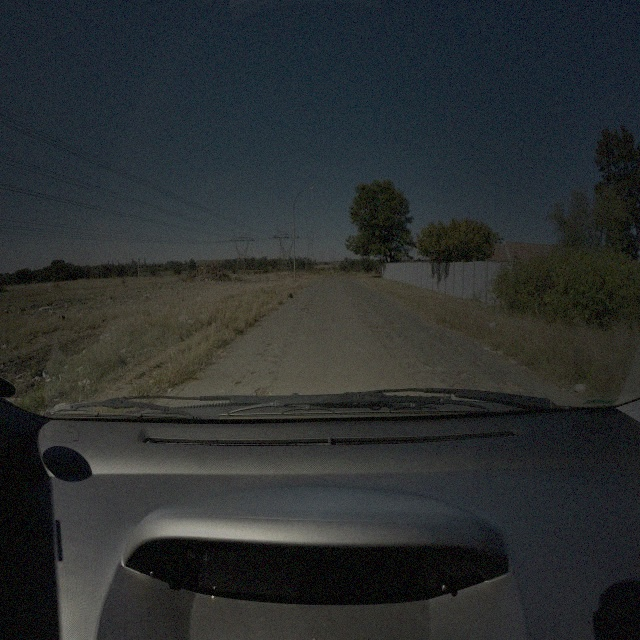pothole: (501, 378, 522, 396), (257, 385, 271, 396), (304, 301, 316, 313), (451, 381, 464, 391), (389, 321, 401, 328), (269, 369, 276, 375)
